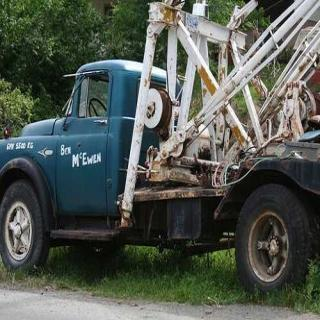Towing_truck: (1, 1, 318, 295)
